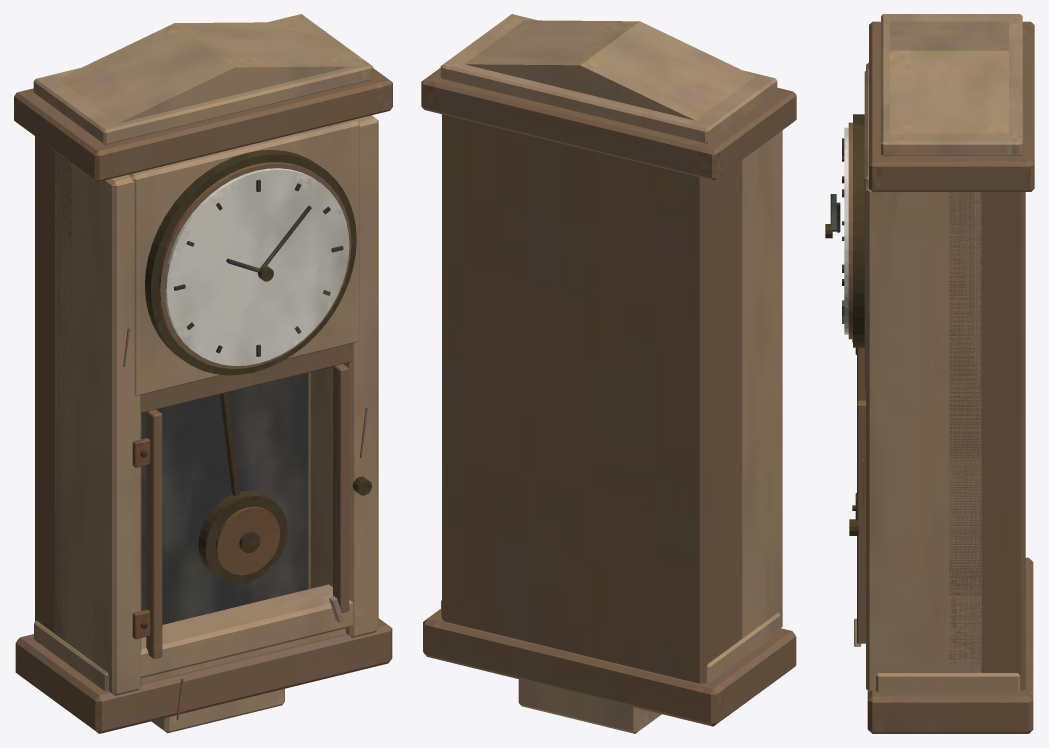
The model's file is L19_pendulum_wall_clock.glb.
3 renders of one model, left to right at view 1: azimuth 30°, elevation 25°; view 2: azimuth 150°, elevation 25°; view 3: azimuth 270°, elevation 25°, orthographic.
Visible parts, largest first — view 1: Solid aged backboard; view 2: Solid aged backboard; view 3: Solid aged backboard.
Boxes of the visible parts, x1,y1,x2,y2 form: Solid aged backboard: [14, 14, 392, 733]; Solid aged backboard: [421, 14, 796, 733]; Solid aged backboard: [825, 14, 1034, 733].
Bounding box in the file's own units: 0.284 × 0.6 × 0.1755.
Materials: 7 (7 with a texture image).
